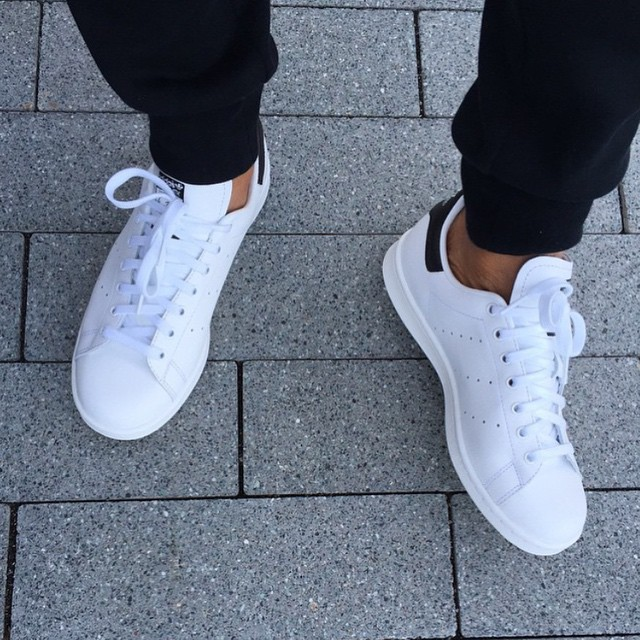sneaker: (355, 165, 613, 578), (32, 112, 294, 461)
